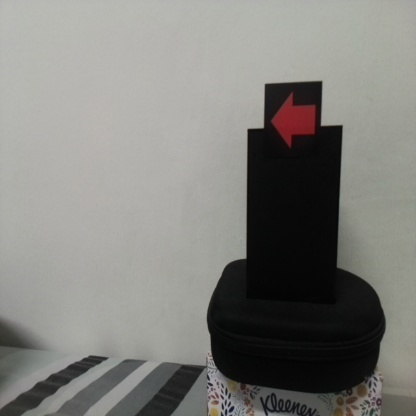id_4: (266, 86, 321, 160)
